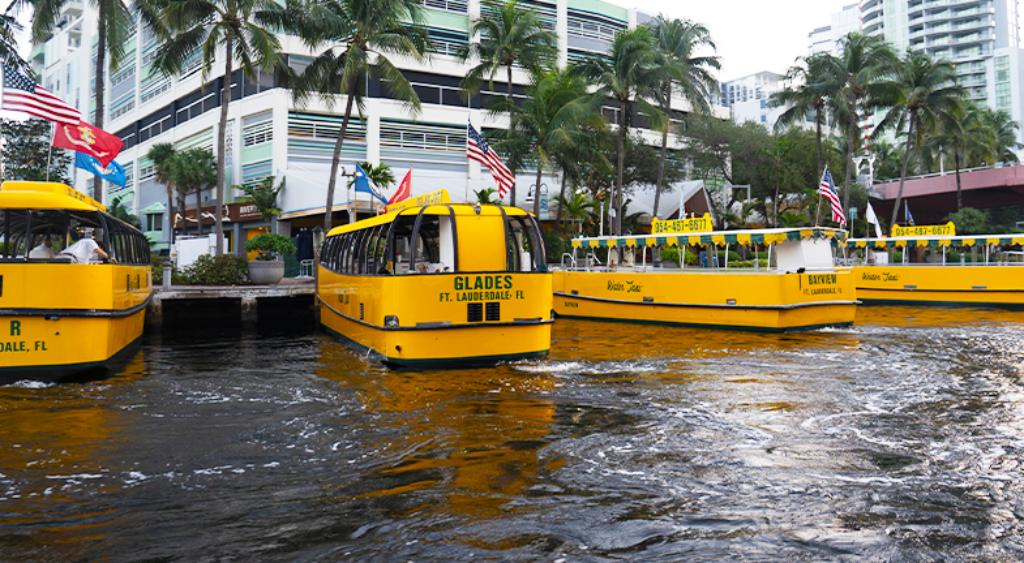PassengerShip: (308, 176, 566, 366), (554, 194, 874, 334), (0, 148, 154, 394), (852, 213, 1024, 312)
